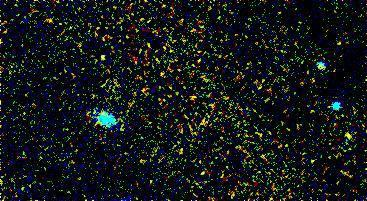star: (336, 118, 366, 148)
